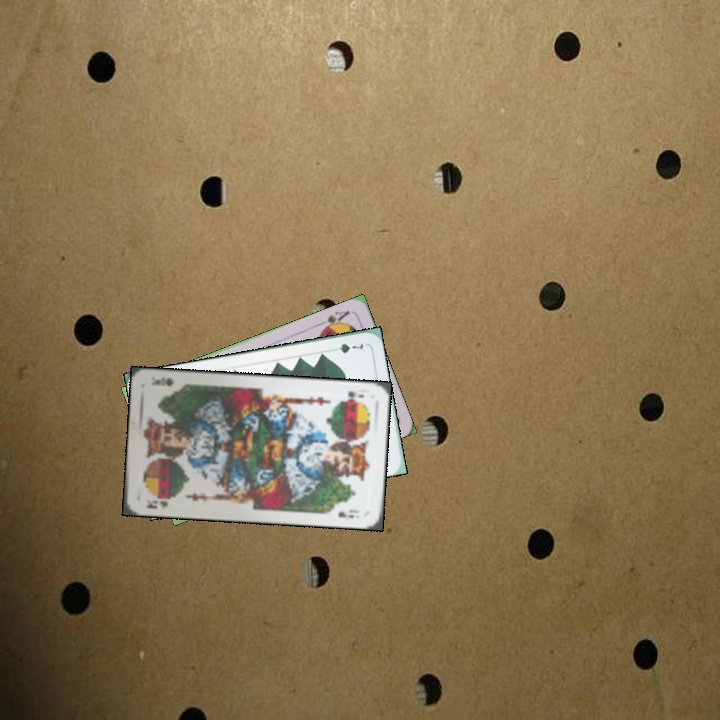G7: (326, 339, 366, 356)
SA: (314, 307, 352, 334)
SK: (142, 493, 170, 512), (344, 387, 367, 403)
